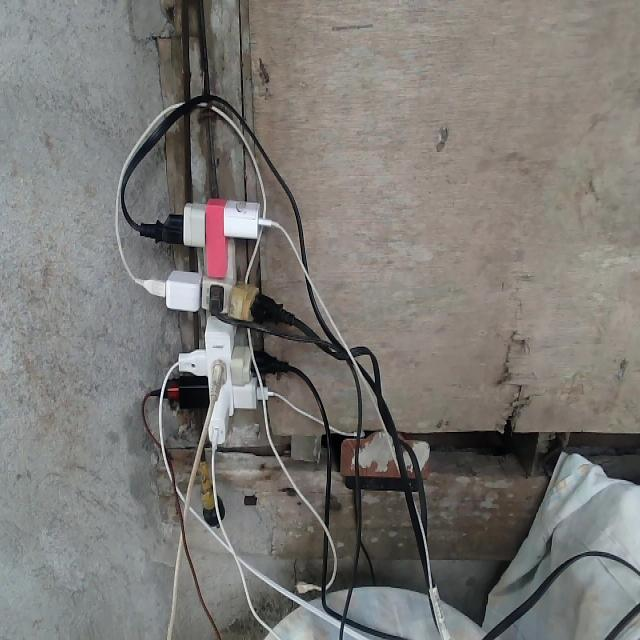-: (139, 199, 296, 456)
